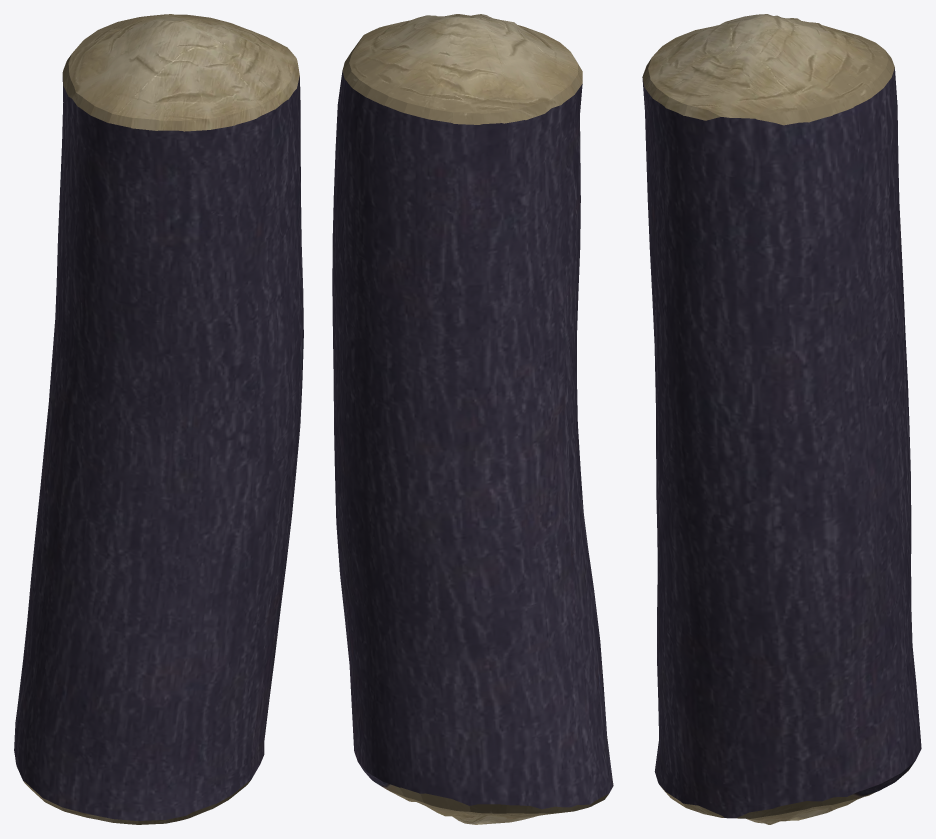
3 renders of one model, left to right at view 1: azimuth 30°, elevation 25°; view 2: azimuth 150°, elevation 25°; view 3: azimuth 270°, elevation 25°, orthographic. The views are drawn at different scales.
Parts seen in each view (by area): view 1: SM_FH_Oak_Tree_01_quarter_02_LOD0; view 2: SM_FH_Oak_Tree_01_quarter_02_LOD0; view 3: SM_FH_Oak_Tree_01_quarter_02_LOD0.
Part boxes in pixels (x1,y1,x2,y2): SM_FH_Oak_Tree_01_quarter_02_LOD0: [14, 14, 303, 824]; SM_FH_Oak_Tree_01_quarter_02_LOD0: [332, 14, 613, 824]; SM_FH_Oak_Tree_01_quarter_02_LOD0: [642, 14, 921, 824].
Bounding box in the file's own units: 0.8999 × 2.66 × 0.8219.
Materials: 1 (1 with a texture image).
